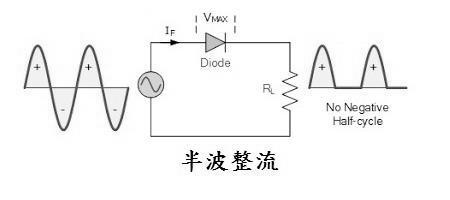power1: (131, 67, 168, 101)
res2: (279, 66, 300, 114)
triode: (202, 29, 229, 56)
